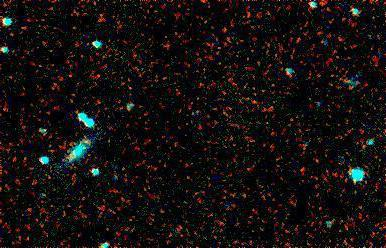star: (73, 125, 103, 155)
